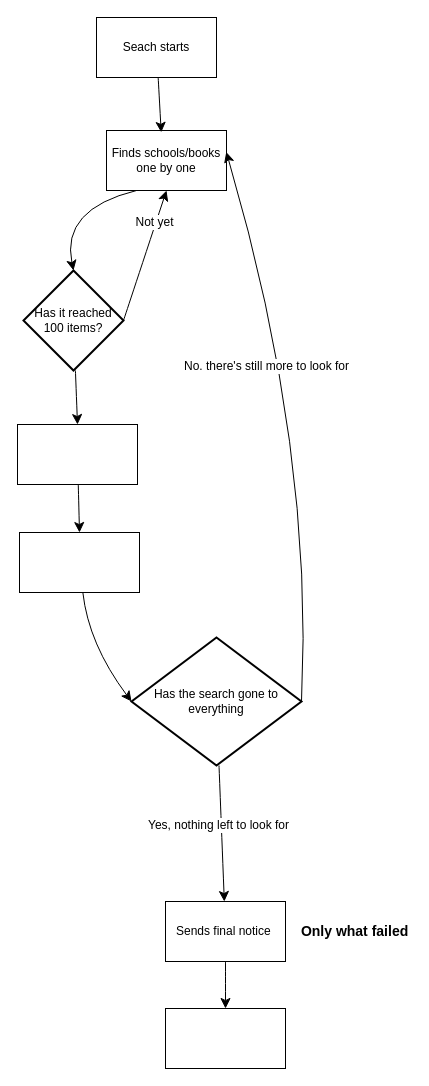
Some shapes in this 429 by 1086 pixel diagram are drawn without their labels. Each missing label, with the centre of its shape:
Backend marks the search as finished: point 225,1038
Backend saves those results into database: point 79,562
Sends that group of 100 right away: point 77,454
